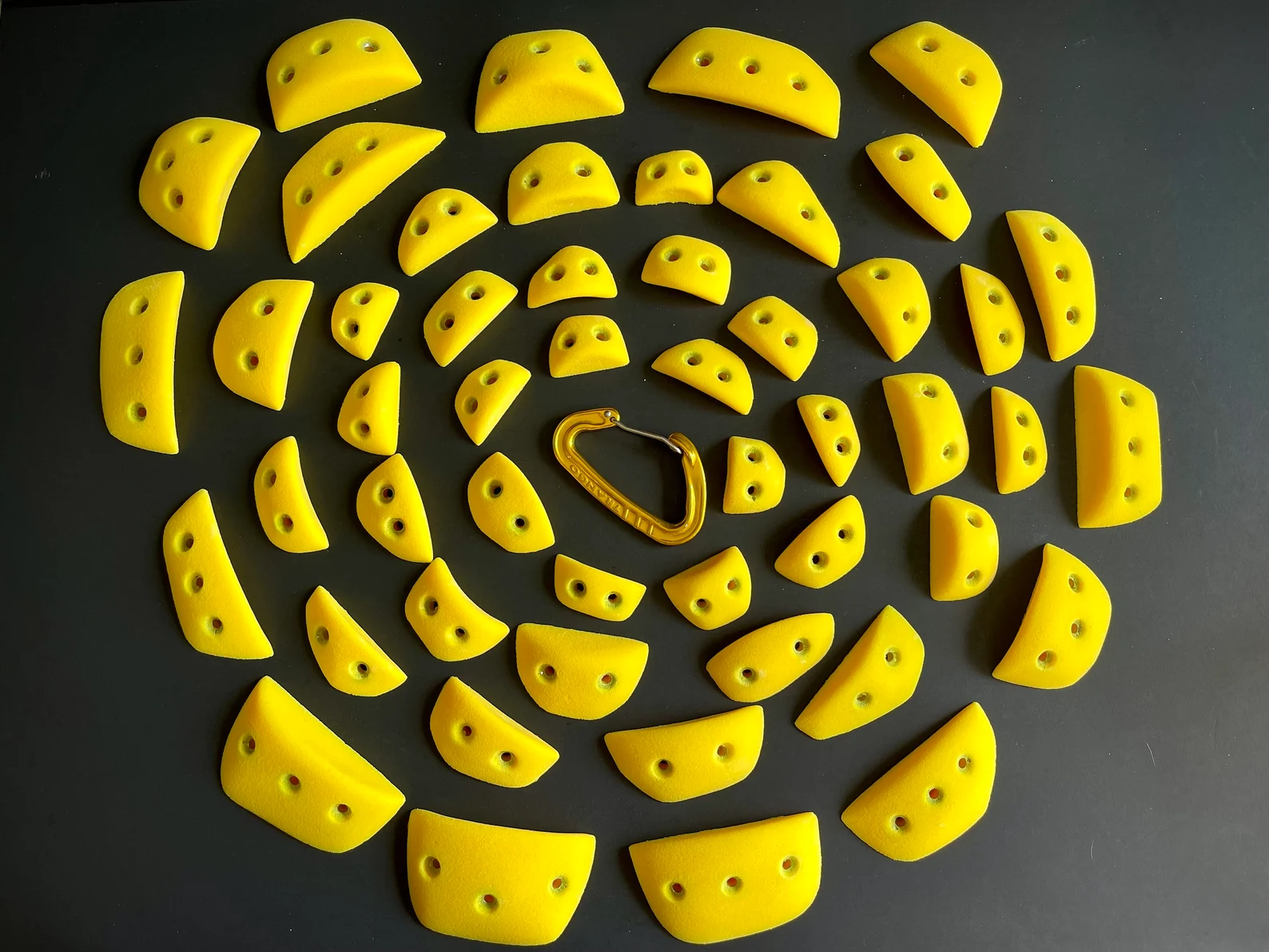hold: (219, 678, 401, 850), (401, 809, 591, 943), (626, 812, 821, 941), (841, 703, 995, 858), (280, 121, 442, 260), (648, 27, 838, 133), (159, 491, 269, 656), (265, 18, 418, 130), (793, 607, 924, 735), (868, 21, 1000, 144), (993, 547, 1108, 685), (136, 118, 257, 248), (471, 31, 622, 130), (1072, 366, 1162, 528), (603, 705, 759, 798), (99, 270, 180, 449), (427, 676, 557, 783), (1006, 207, 1092, 358), (714, 160, 838, 264), (515, 622, 646, 718), (212, 278, 310, 405), (703, 612, 829, 702), (302, 587, 401, 694), (866, 134, 969, 235), (404, 556, 503, 659), (879, 372, 965, 488), (837, 257, 929, 358), (504, 141, 616, 220), (421, 270, 515, 362), (467, 451, 553, 551), (396, 187, 495, 273), (356, 453, 431, 560), (253, 438, 324, 551), (772, 495, 861, 584), (726, 294, 814, 378), (661, 545, 748, 628), (649, 340, 751, 409), (929, 495, 997, 598), (959, 265, 1020, 370), (453, 360, 527, 442), (551, 554, 642, 616), (642, 235, 727, 301), (336, 362, 400, 449), (991, 388, 1044, 488), (527, 245, 615, 305), (798, 394, 857, 481), (328, 283, 396, 355), (546, 314, 626, 374), (723, 436, 783, 511), (634, 149, 710, 202)
